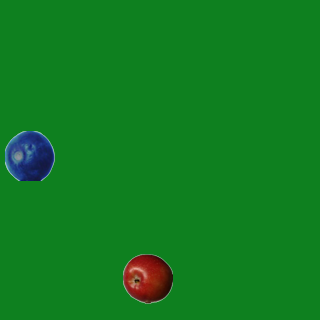Apple Braeburn: (122, 253, 172, 303)
Huckleberry: (4, 130, 54, 180)
